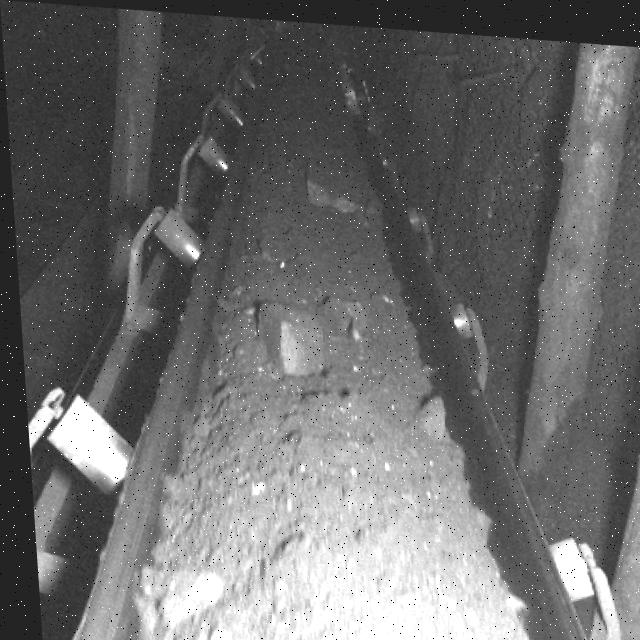large_sized_coal: (130, 560, 215, 626), (249, 296, 319, 368), (302, 156, 360, 211), (408, 386, 446, 434)
